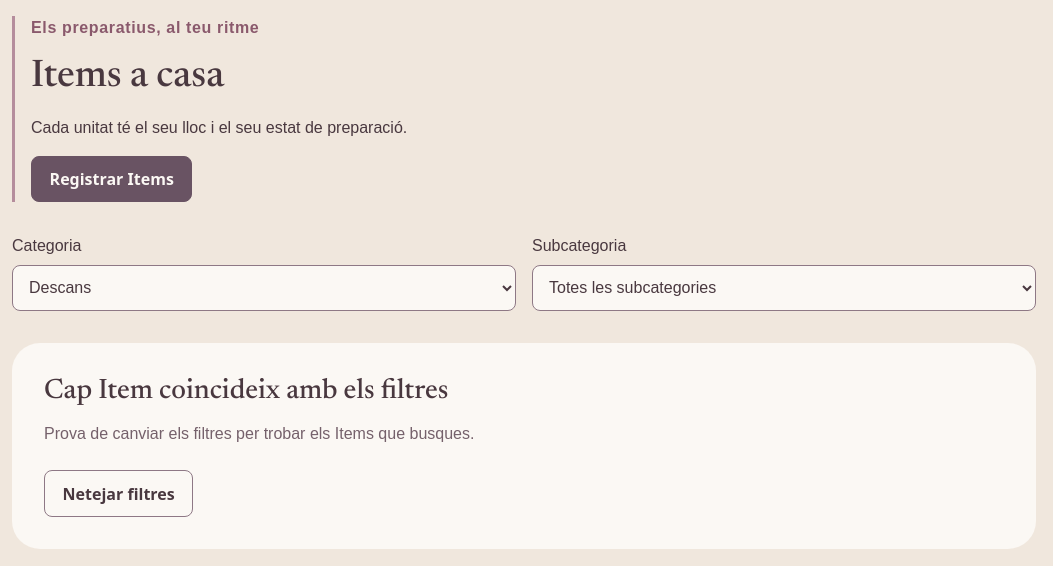
Test: inventari buit separat de consulta sense coincidències
expect the heading "Cap Item coincideix amb els filtres" is shown: met, box [44,375,448,408]
expect the text "Encara no hi ha Items a casa" is not shown: met
Click the button "Netejar filtres" at x=119, y=494, box [44,470,193,517]
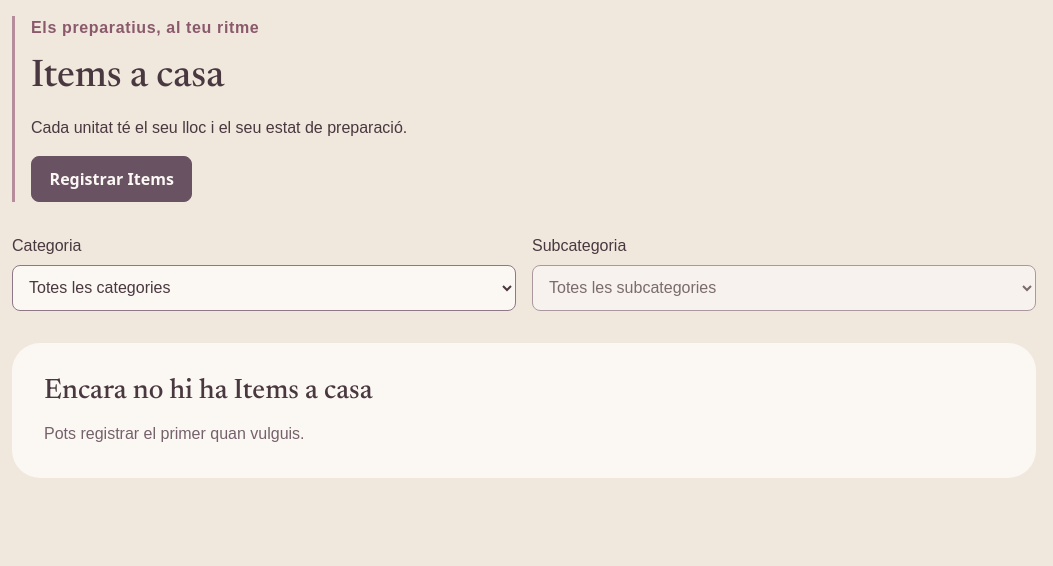
expect the heading "Encara no hi ha Items a casa" is shown: met, box [44,375,372,408]
